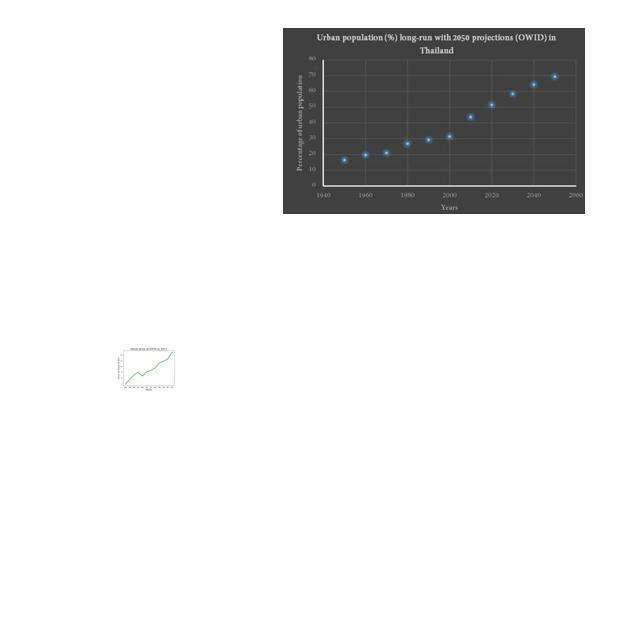Graph: (283, 28, 585, 214), (115, 343, 181, 393)
